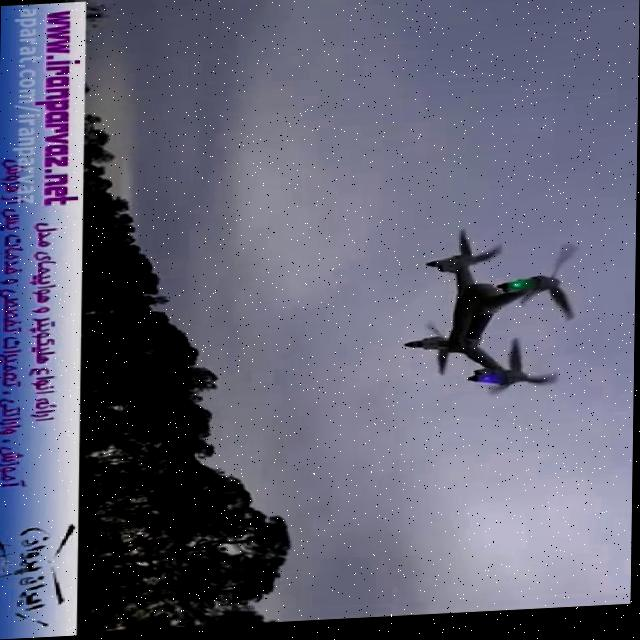drone: (402, 224, 587, 411)
